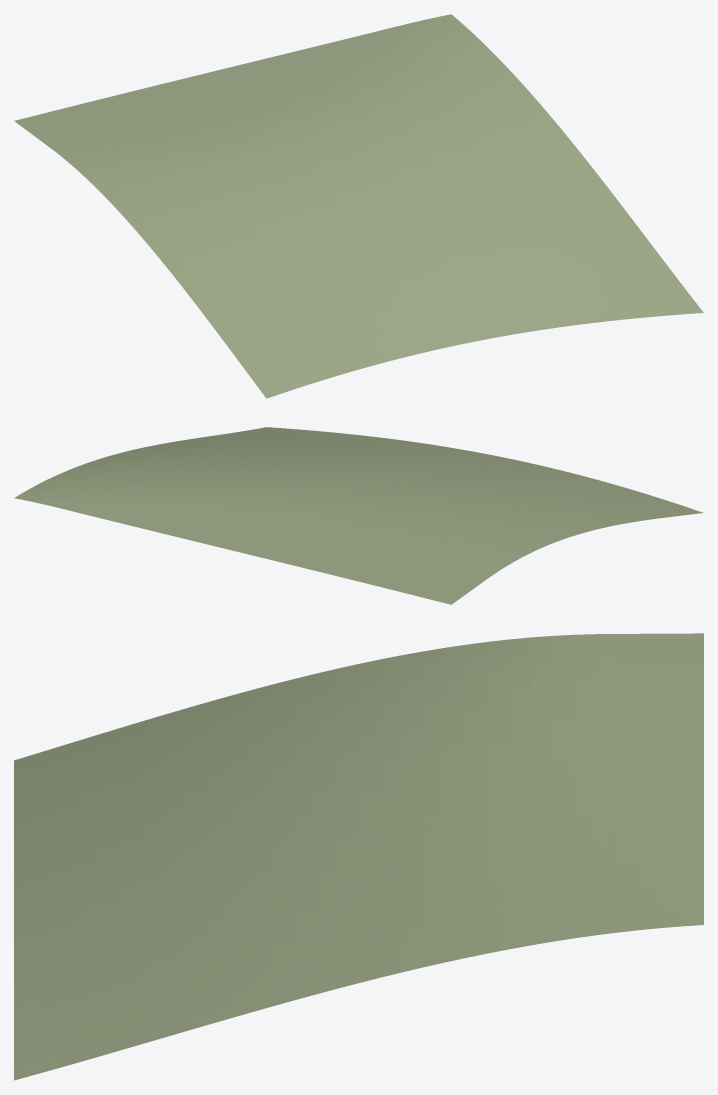
File: desert-20-20.glb
3 renders of one model, top to bottom at view 1: azimuth 30°, elevation 25°; view 2: azimuth 150°, elevation 25°; view 3: azimuth 270°, elevation 25°, orthographic. The views are drawn at different scales.
Parts seen in each view (by area): view 1: desert-20-20; view 2: desert-20-20; view 3: desert-20-20.
Boxes of the visible parts, x1=… form: desert-20-20: x1=14, y1=14, x2=703, y2=398; desert-20-20: x1=14, y1=427, x2=703, y2=604; desert-20-20: x1=14, y1=633, x2=703, y2=1080.
Bounding box in the file's own units: 512 × 129 × 512.
